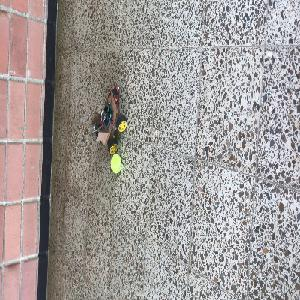Ball: (110, 154, 122, 173)
Robot: (91, 88, 128, 151)
